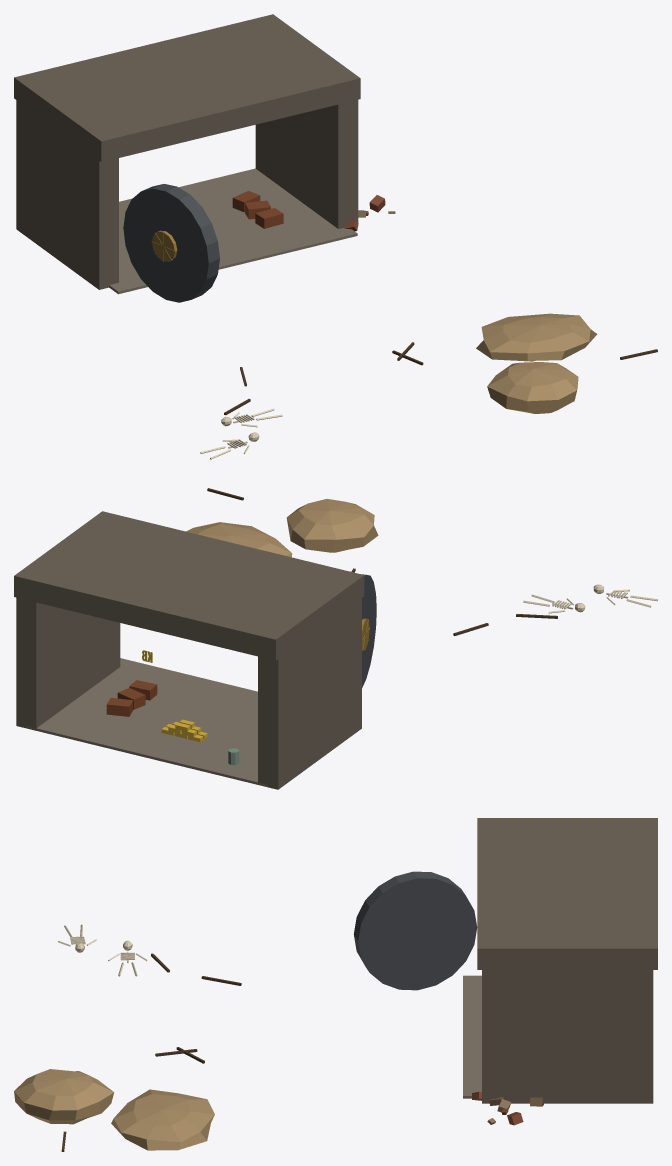
The model's file is TownRoom_vault.glb.
3 views of the same model, one above another, from view 1: azimuth 30°, elevation 25°; view 2: azimuth 150°, elevation 25°; view 3: azimuth 270°, elevation 25° (orthographic). The views are drawn at different scales.
Visible parts, largest first — view 1: TownRoom_vault.001; view 2: TownRoom_vault.001; view 3: TownRoom_vault.001.
Boxes of the visible parts, x1,y1,x2,y2 form: TownRoom_vault.001: (14, 14, 657, 459); TownRoom_vault.001: (14, 488, 657, 789); TownRoom_vault.001: (14, 818, 657, 1151).
Bounding box in the file's own units: 11.23 × 4.17 × 13.55.
